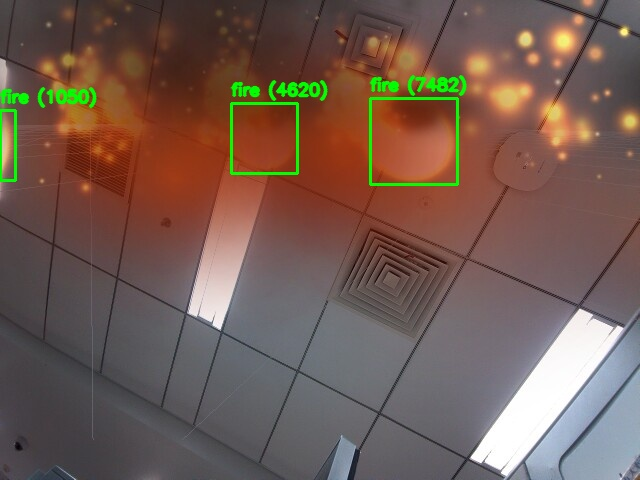fire: (370, 98, 457, 184), (231, 103, 297, 173), (0, 110, 15, 180)
